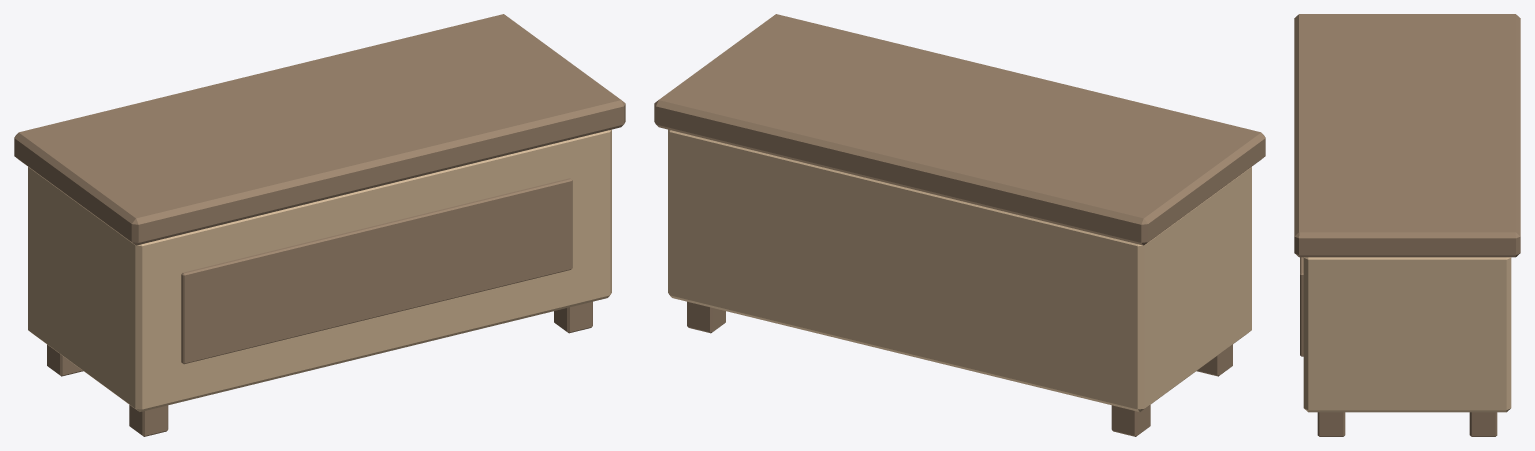
Rendered from bedroom-and-living-room-furniture-blanket-box-7d6bbc86.glb.
3 renders of one model, left to right at view 1: azimuth 30°, elevation 25°; view 2: azimuth 150°, elevation 25°; view 3: azimuth 270°, elevation 25°, orthographic. The views are drawn at different scales.
Visible parts, largest first — view 1: blanket-box, lid; view 2: blanket-box, lid; view 3: lid, blanket-box.
Boxes of the visible parts, box(x1,y1,x2,y2) form: blanket-box: box(28, 129, 611, 436); lid: box(14, 14, 625, 245); blanket-box: box(668, 129, 1251, 436); lid: box(654, 14, 1265, 245); lid: box(1294, 14, 1520, 257); blanket-box: box(1300, 257, 1511, 436).
Size of the model in its own units: 1.14 by 0.51 by 0.49.
